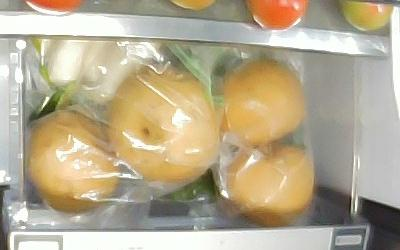pear_vinyl: (107, 65, 220, 183), (29, 112, 119, 213), (227, 144, 313, 227), (222, 58, 304, 143)
